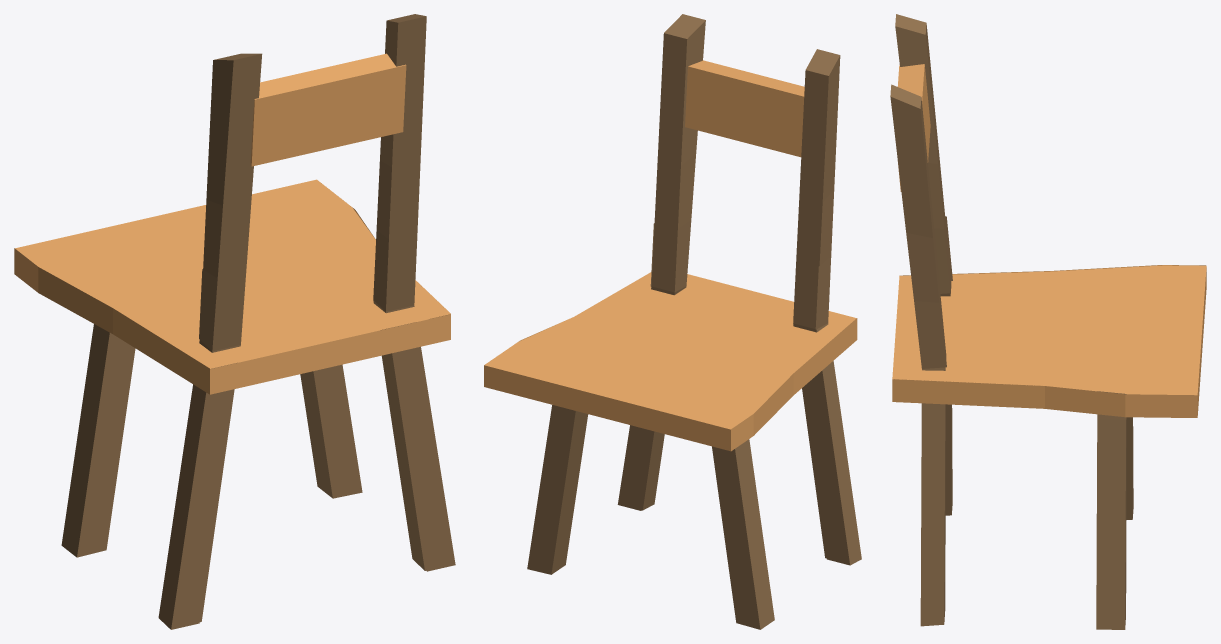
File: Chair.fbx
3 views of the same model, side by side, from view 1: azimuth 30°, elevation 25°; view 2: azimuth 150°, elevation 25°; view 3: azimuth 270°, elevation 25° (orthographic). The views are drawn at different scales.
Visible parts, largest first — view 1: Chair; view 2: Chair; view 3: Chair.
Part boxes in pixels (left/top/right/bottom): Chair: left=14, top=14, right=455, bottom=629; Chair: left=484, top=14, right=861, bottom=629; Chair: left=890, top=14, right=1206, bottom=629.
Bounding box in the file's own units: 62.04 × 114 × 63.83.
